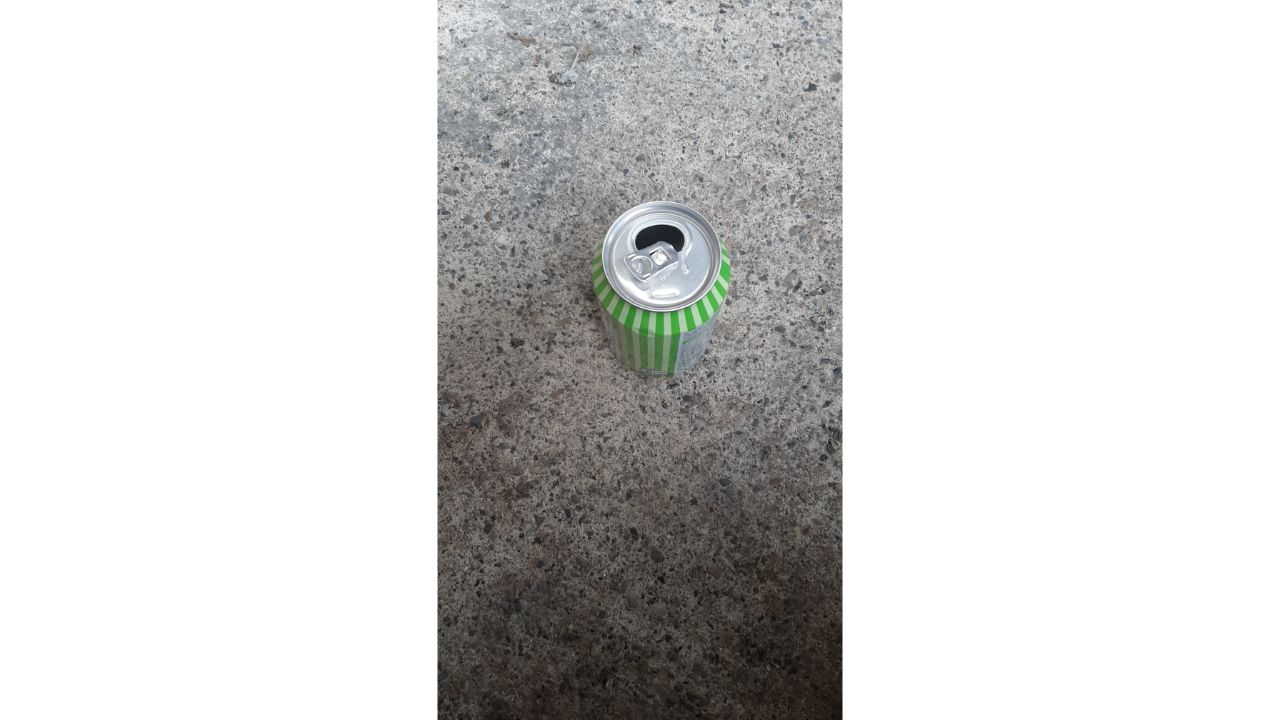Can: (575, 194, 743, 404)
